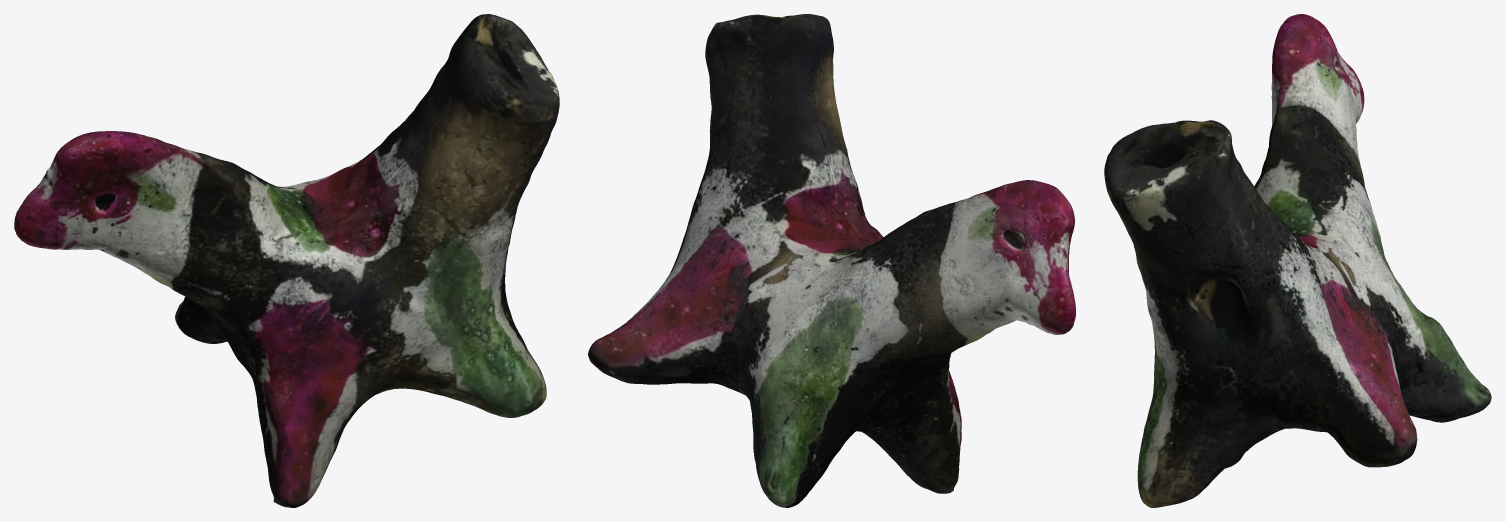
3 renders of one model, left to right at view 1: azimuth 30°, elevation 25°; view 2: azimuth 150°, elevation 25°; view 3: azimuth 270°, elevation 25°, orthographic. The views are drawn at different scales.
Bounding box in the file's own units: 0.5385 × 0.4785 × 0.3819.
1 material, 1 textured.
